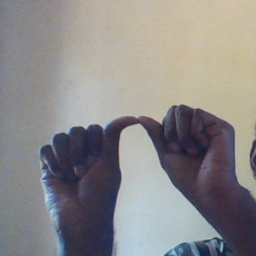A: (37, 102, 241, 212)
